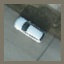car: (14, 16, 45, 42)
